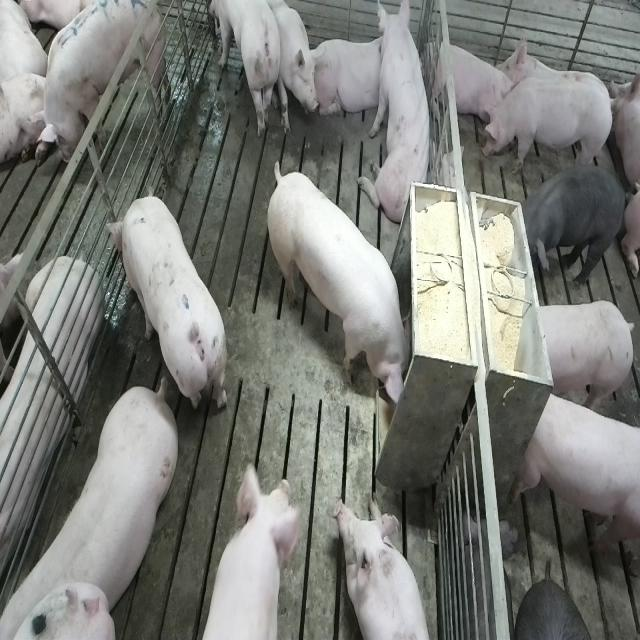Feeding: (271, 162, 420, 410)
Sitting: (362, 4, 437, 230), (210, 1, 284, 142), (267, 2, 318, 142)
Standing: (5, 373, 184, 633), (105, 194, 226, 420), (515, 386, 639, 574), (36, 0, 172, 155), (189, 461, 304, 638), (482, 78, 618, 180), (516, 162, 629, 284), (530, 300, 634, 416)
Sternal_lying: (0, 255, 101, 585), (333, 495, 434, 640), (428, 36, 511, 133), (312, 35, 391, 122)
